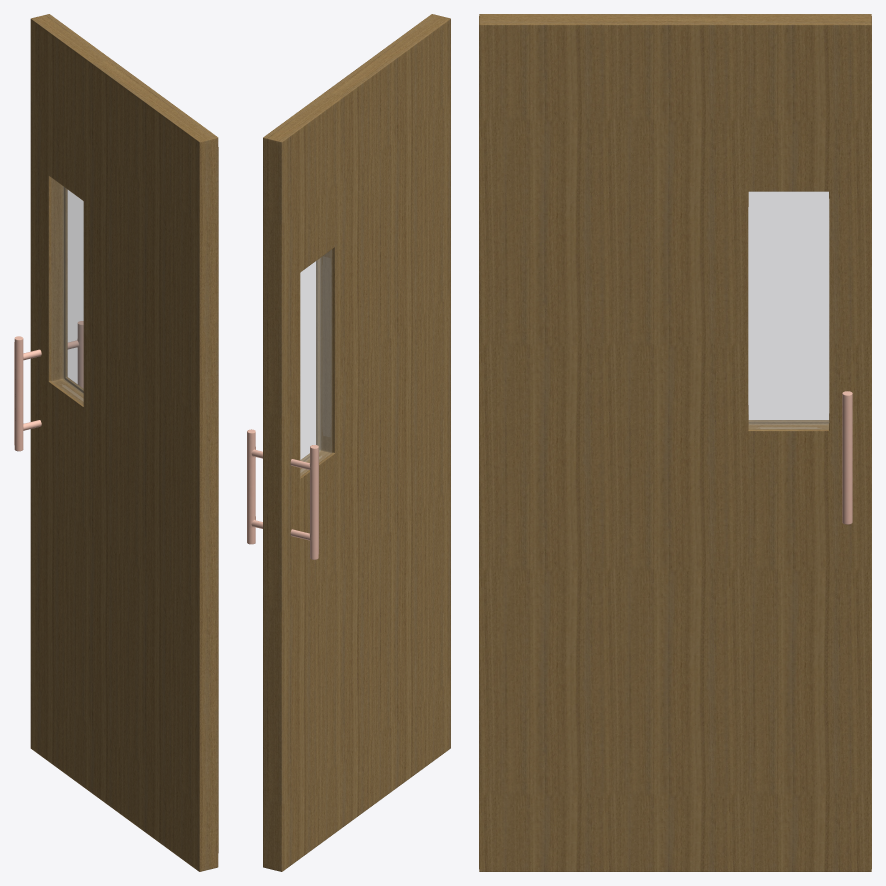
The model's file is SingleDoor-transformed.glb.
The picture shows the model from 3 angles, left to right: view 1: azimuth 30°, elevation 25°; view 2: azimuth 150°, elevation 25°; view 3: azimuth 270°, elevation 25°; orthographic projection. The views are drawn at different scales.
Visible parts, largest first — view 1: Door double.002, Plane.001, Handle.002; view 2: Door double.002, Plane.001, Handle.002; view 3: Door double.002, Plane.001, Handle.002.
Boxes of the visible parts, bbox=[...] form: Door double.002: bbox=[30, 14, 218, 871]; Plane.001: bbox=[51, 178, 83, 404]; Handle.002: bbox=[14, 321, 83, 451]; Door double.002: bbox=[263, 14, 450, 871]; Plane.001: bbox=[300, 250, 331, 475]; Handle.002: bbox=[247, 429, 318, 559]; Door double.002: bbox=[479, 14, 871, 871]; Plane.001: bbox=[748, 192, 828, 429]; Handle.002: bbox=[842, 391, 852, 524].
Bounding box in the file's own units: 0.2533 × 2.5 × 1.05.
Materials: 3 (2 with a texture image).
